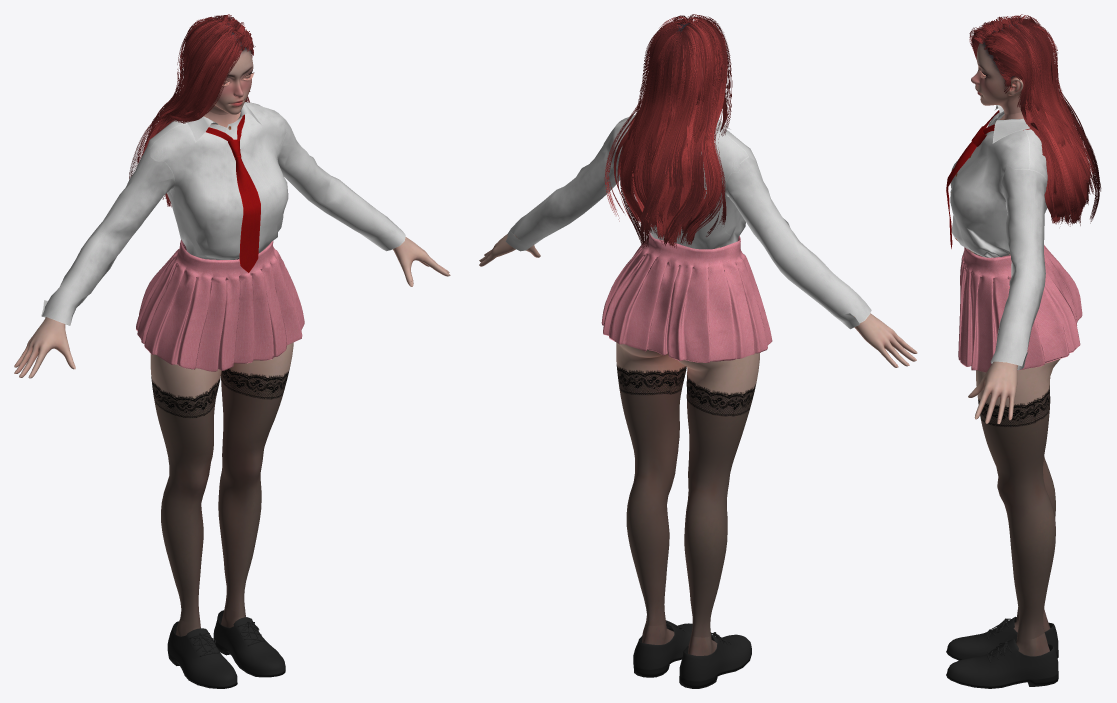
The model's file is female girl.fbx.
3 renders of one model, left to right at view 1: azimuth 30°, elevation 25°; view 2: azimuth 150°, elevation 25°; view 3: azimuth 270°, elevation 25°, orthographic.
Parts seen in each view (by area): view 1: SK_JAP_SHIRT_01 simplified mesh, SK_JAP_LEGS, SK_JAP_SKIRT_SHORT, SK_JAP_HAIR_LOOSE.001, SK_JAP_SHOES.001, SK_JAP_HANDS, SK_JAP_TIE, SK_JAP_HEAD; view 2: SK_JAP_LEGS, SK_JAP_HAIR_LOOSE.001, SK_JAP_SKIRT_SHORT, SK_JAP_SHIRT_01 simplified mesh, SK_JAP_SHOES.001, SK_JAP_HANDS, SK_JAP_FEET_FLAT_Part; view 3: SK_JAP_SHIRT_01 simplified mesh, SK_JAP_LEGS, SK_JAP_HAIR_LOOSE.001, SK_JAP_SKIRT_SHORT, SK_JAP_SHOES.001, SK_JAP_HEAD, SK_JAP_HANDS, SK_JAP_TIE, SK_JAP_FEET_FLAT_Part.
Part boxes in pixels (x1,y1,x2,y2): SK_JAP_SHIRT_01 simplified mesh: (41, 102, 405, 325); SK_JAP_LEGS: (150, 246, 293, 622); SK_JAP_SKIRT_SHORT: (136, 239, 304, 371); SK_JAP_HAIR_LOOSE.001: (129, 14, 255, 207); SK_JAP_SHOES.001: (167, 610, 285, 688); SK_JAP_HANDS: (14, 237, 450, 378); SK_JAP_TIE: (206, 114, 260, 272); SK_JAP_HEAD: (196, 21, 254, 114); SK_JAP_LEGS: (616, 247, 759, 637); SK_JAP_HAIR_LOOSE.001: (604, 14, 732, 248); SK_JAP_SKIRT_SHORT: (601, 232, 772, 362); SK_JAP_SHIRT_01 simplified mesh: (505, 114, 871, 329); SK_JAP_SHOES.001: (633, 620, 751, 688); SK_JAP_HANDS: (479, 234, 917, 367); SK_JAP_FEET_FLAT_Part: (642, 621, 717, 655); SK_JAP_SHIRT_01 simplified mesh: (950, 105, 1047, 370); SK_JAP_LEGS: (970, 251, 1060, 639); SK_JAP_HAIR_LOOSE.001: (969, 14, 1101, 226); SK_JAP_SKIRT_SHORT: (958, 245, 1082, 372); SK_JAP_SHOES.001: (946, 616, 1058, 688); SK_JAP_HEAD: (971, 24, 1023, 114); SK_JAP_HANDS: (968, 361, 1017, 424); SK_JAP_TIE: (946, 110, 1030, 248); SK_JAP_FEET_FLAT_Part: (1014, 610, 1050, 656).
Size of the model in its own units: 121 by 173 by 37.79.
